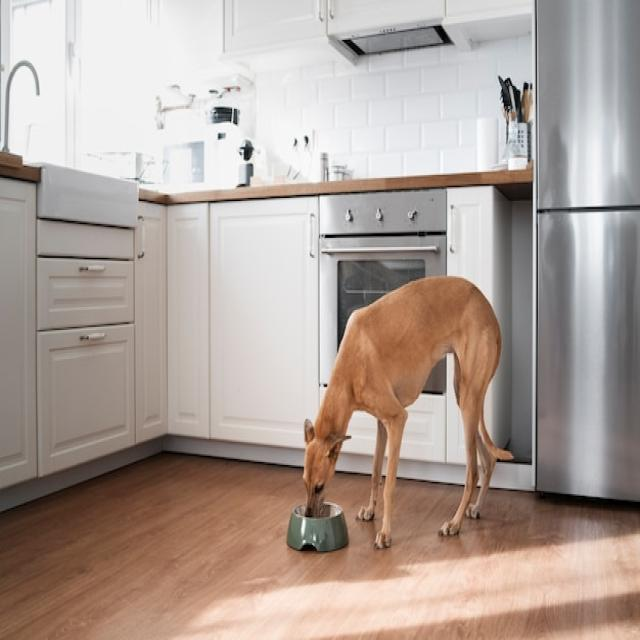Dog: (304, 276, 513, 548)
